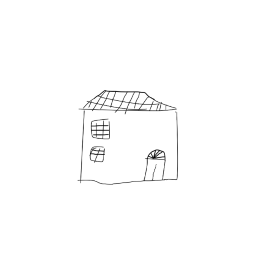closed_window: (87, 115, 116, 141), (88, 142, 108, 165)
door: (139, 146, 172, 183)
roof: (68, 85, 190, 115)
small_house: (1, 1, 258, 260)
wall: (76, 104, 183, 188)
